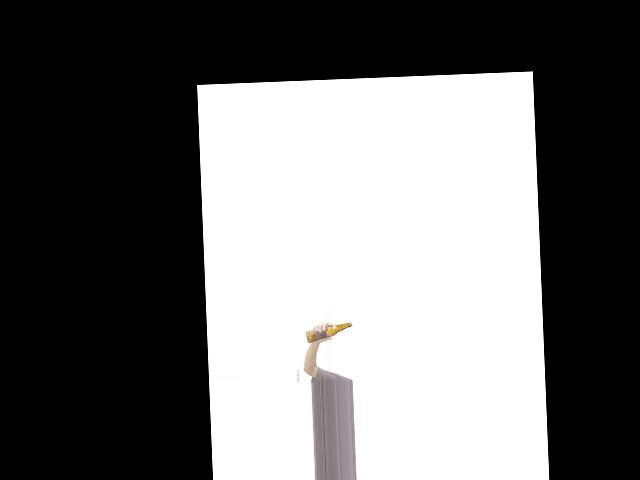beer: (304, 322, 352, 343)
